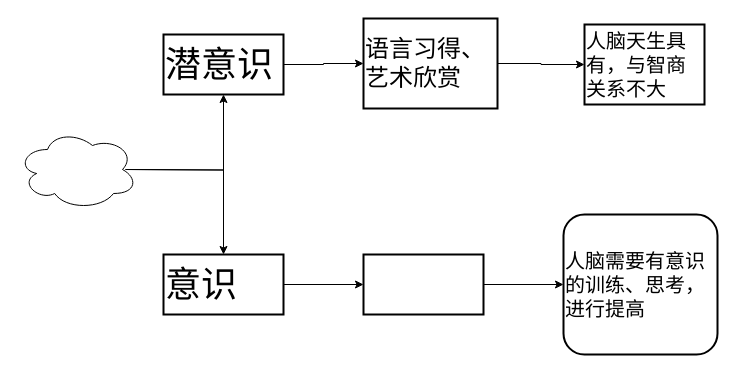
The diagram is 736 pixels wide and 372 high, and some of its shapes have lost their labels. Here are the shapes that lost their labels. From the top down, the centre of each, then its label:
At (x=77, y=169): "人脑".
At (x=423, y=284): "记忆、运算".
